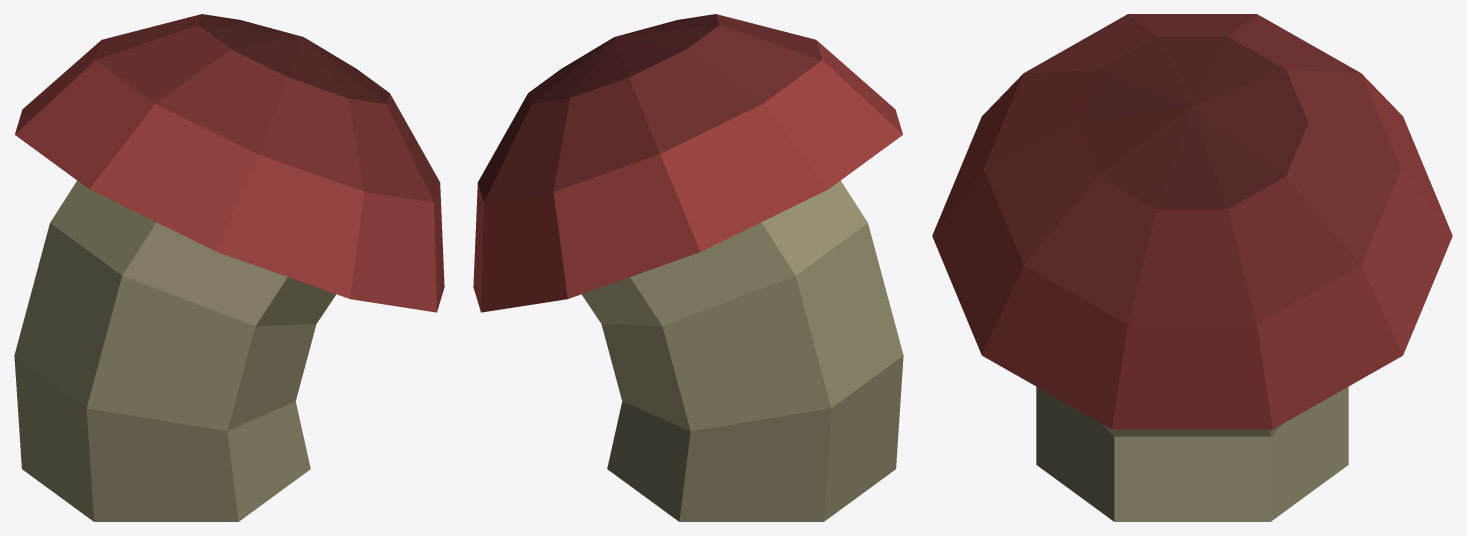
Rendered from Mushroom_3_Red.fbx.
3 views of the same model, side by side, from view 1: azimuth 30°, elevation 25°; view 2: azimuth 150°, elevation 25°; view 3: azimuth 270°, elevation 25° (orthographic). The views are drawn at different scales.
Parts seen in each view (by area): view 1: Mushroom_3_Red; view 2: Mushroom_3_Red; view 3: Mushroom_3_Red.
Part boxes in pixels (box(x1,y1,x2,y2)): Mushroom_3_Red: box(14, 14, 444, 521); Mushroom_3_Red: box(473, 14, 903, 521); Mushroom_3_Red: box(932, 14, 1452, 521).
Bounding box in the file's own units: 57.52 × 64.13 × 66.69.
